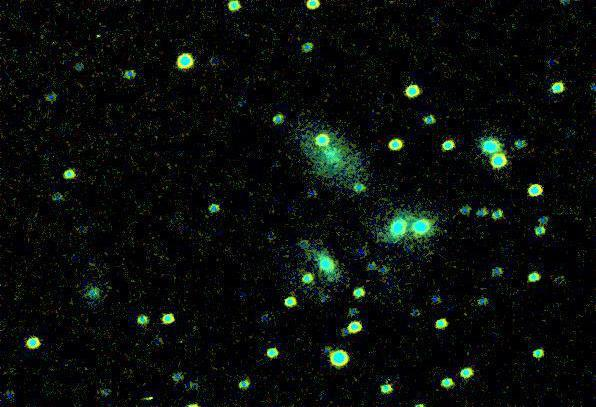star: (314, 263, 344, 293)
